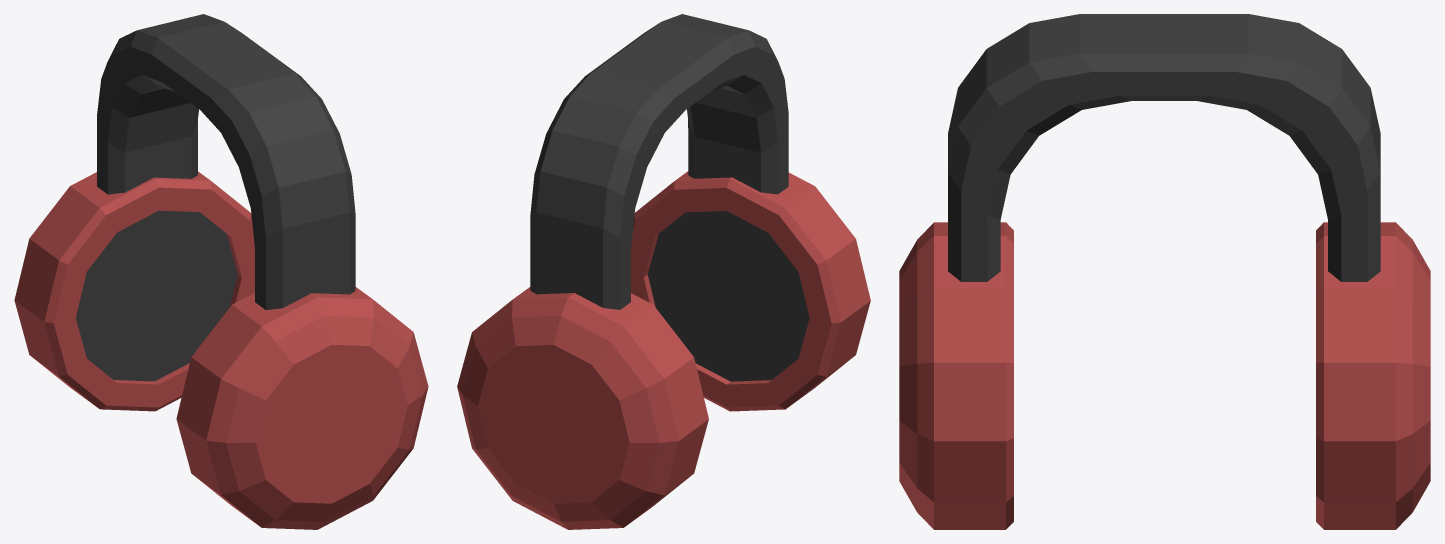
Rendered from Headphones.fbx.
3 renders of one model, left to right at view 1: azimuth 30°, elevation 25°; view 2: azimuth 150°, elevation 25°; view 3: azimuth 270°, elevation 25°, orthographic. The views are drawn at different scales.
Parts seen in each view (by area): view 1: Headphones; view 2: Headphones; view 3: Headphones.
Boxes of the visible parts, box(x1,y1,x2,y2) form: Headphones: box(14, 14, 428, 529); Headphones: box(457, 14, 870, 529); Headphones: box(899, 14, 1430, 529).
Bounding box in the file's own units: 33.69 × 58.39 × 57.93.
